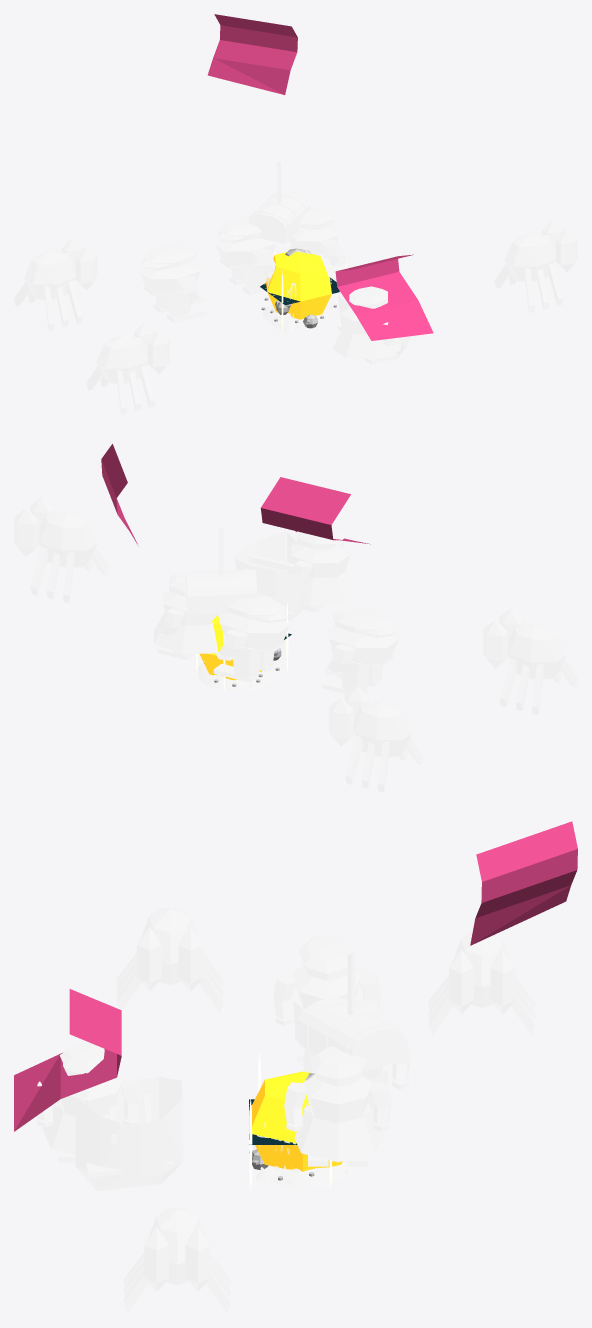
The model's file is ile-tresor-v5.glb.
The picture shows the model from 3 angles, top to bottom: view 1: azimuth 30°, elevation 25°; view 2: azimuth 150°, elevation 25°; view 3: azimuth 270°, elevation 25°; orthographic projection. The views are drawn at different scales.
Parts seen in each view (by area): view 1: ile_banniere0.012, ile_banniere1.010, ile_copie2.006, ile_anime5.016, ile_copie1.011, ile_anime4.020, ile_lumieres.026, ile_anime3.024, ile_anime2.026, ile_anime0.026, ile_copie0.015, ile_corps.026; view 2: ile_anime5.016, ile_copie1.011, ile_copie2.006, ile_anime4.020, ile_anime3.024, ile_anime2.026, ile_banniere1.010, ile_anime1.026, ile_copie0.015, ile_anime0.026, ile_corps.026, ile_banniere0.012 (+1 smaller); view 3: ile_anime1.026, ile_copie0.015, ile_banniere0.012, ile_banniere1.010, ile_anime5.016, ile_copie1.011, ile_copie2.006, ile_anime0.026, ile_anime4.020, ile_anime2.026, ile_lumieres.026, ile_corps.026 (+1 smaller).
Boxes of the visible parts, x1=… form: ile_banniere0.012: x1=207, y1=14, x2=297, y2=94; ile_banniere1.010: x1=335, y1=254, x2=433, y2=340; ile_copie2.006: x1=14, y1=237, x2=97, y2=330; ile_anime5.016: x1=86, y1=321, x2=169, y2=414; ile_copie1.011: x1=494, y1=219, x2=577, y2=312; ile_anime4.020: x1=139, y1=243, x2=206, y2=322; ile_lumieres.026: x1=261, y1=248, x2=346, y2=334; ile_anime3.024: x1=215, y1=216, x2=276, y2=295; ile_anime2.026: x1=332, y1=286, x2=401, y2=364; ile_anime0.026: x1=248, y1=162, x2=309, y2=243; ile_copie0.015: x1=288, y1=206, x2=347, y2=280; ile_corps.026: x1=262, y1=275, x2=333, y2=333; ile_anime5.016: x1=483, y1=608, x2=577, y2=714; ile_copie1.011: x1=14, y1=496, x2=108, y2=602; ile_copie2.006: x1=329, y1=686, x2=423, y2=792; ile_anime4.020: x1=322, y1=607, x2=398, y2=693; ile_anime3.024: x1=213, y1=594, x2=289, y2=682; ile_anime2.026: x1=288, y1=526, x2=360, y2=612; ile_banniere1.010: x1=260, y1=477, x2=370, y2=544; ile_anime1.026: x1=235, y1=531, x2=308, y2=621; ile_copie0.015: x1=154, y1=571, x2=218, y2=660; ile_anime0.026: x1=185, y1=528, x2=256, y2=615; ile_corps.026: x1=196, y1=660, x2=286, y2=691; ile_banniere0.012: x1=101, y1=444, x2=138, y2=546; ile_anime1.026: x1=75, y1=1077, x2=183, y2=1190; ile_copie0.015: x1=284, y1=1046, x2=391, y2=1166; ile_banniere0.012: x1=470, y1=821, x2=577, y2=945; ile_banniere1.010: x1=14, y1=989, x2=121, y2=1131; ile_anime5.016: x1=116, y1=907, x2=223, y2=1012; ile_copie1.011: x1=123, y1=1208, x2=230, y2=1313; ile_copie2.006: x1=428, y1=930, x2=535, y2=1035; ile_anime0.026: x1=297, y1=952, x2=405, y2=1071; ile_anime4.020: x1=273, y1=935, x2=381, y2=1062; ile_anime2.026: x1=36, y1=1042, x2=142, y2=1162; ile_lumieres.026: x1=249, y1=1053, x2=342, y2=1191; ile_corps.026: x1=249, y1=1122, x2=356, y2=1189.
Size of the model in its own units: 15.18 by 7.24 by 10.46.
